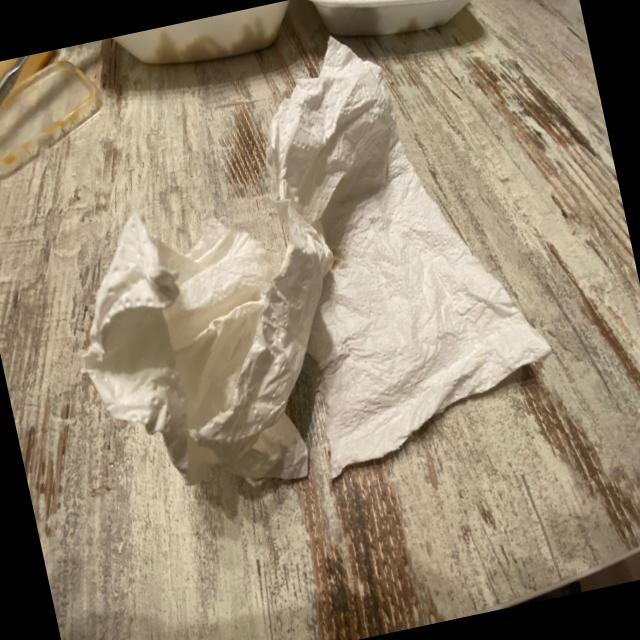organic waste: (28, 0, 570, 528)
